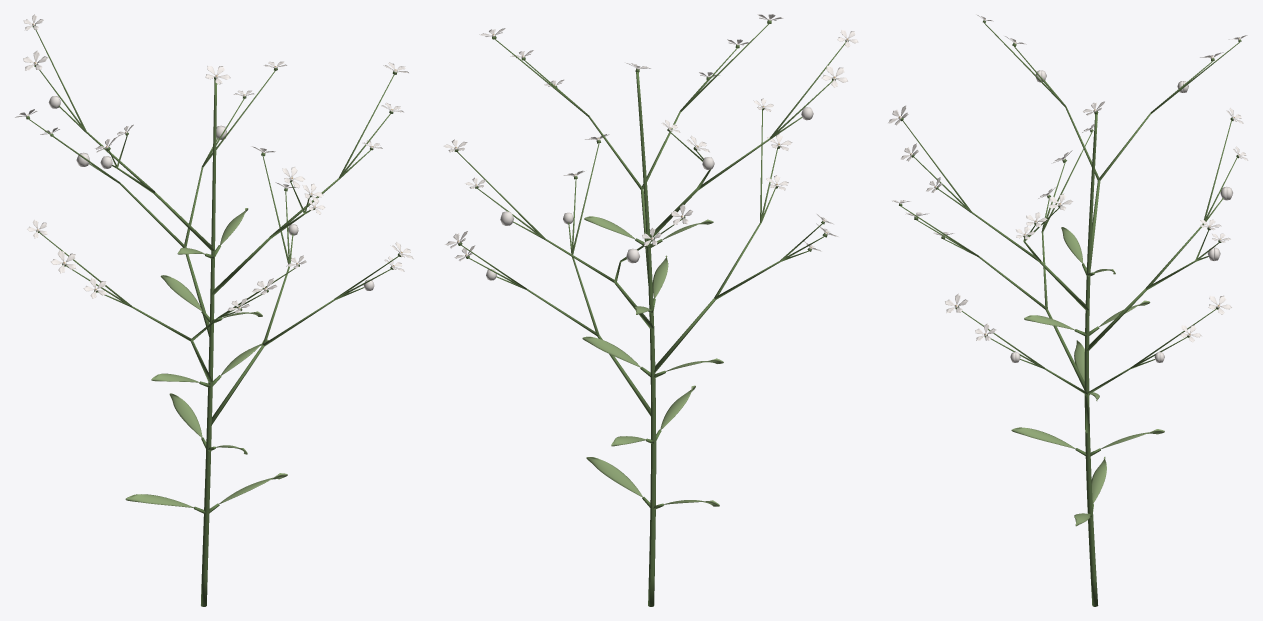
Rendered from gypsophila-fine-v2.glb.
3 views of the same model, side by side, from view 1: azimuth 30°, elevation 25°; view 2: azimuth 150°, elevation 25°; view 3: azimuth 270°, elevation 25° (orthographic). The views are drawn at different scales.
Visible parts, largest first — view 1: gypsophila-fine-v2-stem, gypsophila-fine-v2-petal, gypsophila-fine-v2-leaf; view 2: gypsophila-fine-v2-stem, gypsophila-fine-v2-petal, gypsophila-fine-v2-leaf; view 3: gypsophila-fine-v2-stem, gypsophila-fine-v2-petal, gypsophila-fine-v2-leaf.
Part boxes in pixels (x1=…): gypsophila-fine-v2-stem: x1=26, y1=25, x2=401, y2=606; gypsophila-fine-v2-petal: x1=15, y1=14, x2=413, y2=312; gypsophila-fine-v2-leaf: x1=125, y1=208, x2=287, y2=507; gypsophila-fine-v2-stem: x1=454, y1=20, x2=848, y2=606; gypsophila-fine-v2-petal: x1=443, y1=14, x2=858, y2=280; gypsophila-fine-v2-leaf: x1=582, y1=216, x2=723, y2=506; gypsophila-fine-v2-stem: x1=899, y1=20, x2=1241, y2=606; gypsophila-fine-v2-petal: x1=888, y1=14, x2=1247, y2=362; gypsophila-fine-v2-leaf: x1=1011, y1=227, x2=1164, y2=526.
Bounding box in the file's own units: 1.2 × 1.76 × 1.09.
